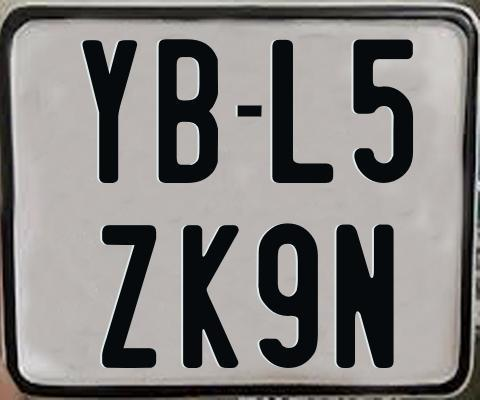5: (350, 39, 414, 187)
9: (256, 223, 320, 370)
B: (156, 39, 215, 183)
K: (181, 223, 242, 368)
L: (271, 37, 333, 185)
N: (334, 224, 394, 371)
Y: (82, 39, 137, 182)
Z: (102, 223, 156, 371)
